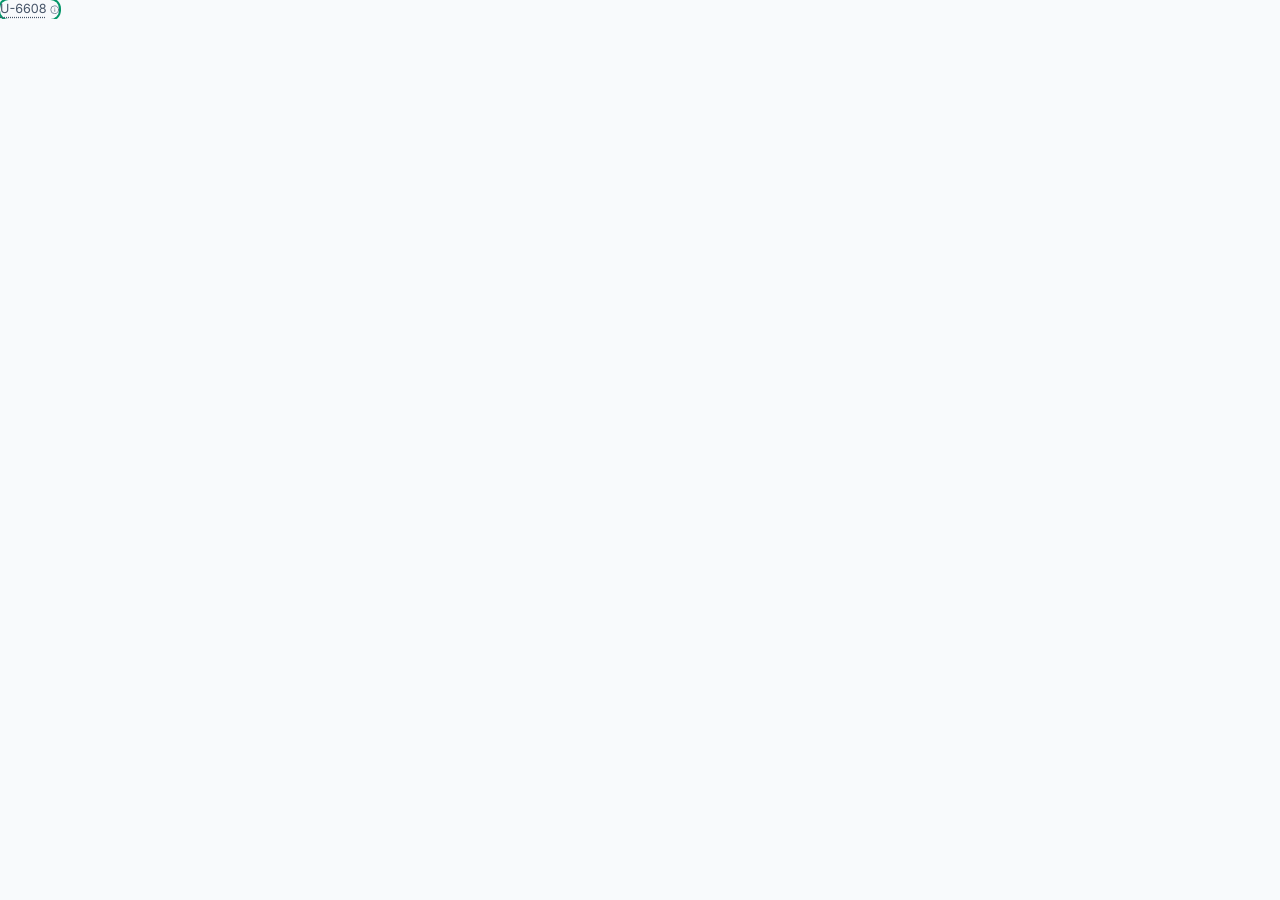
read-only loan overview information › surfaces access/read errors without displaying cached data from another case
Click the button: (30, 10) [0,0,59,19]
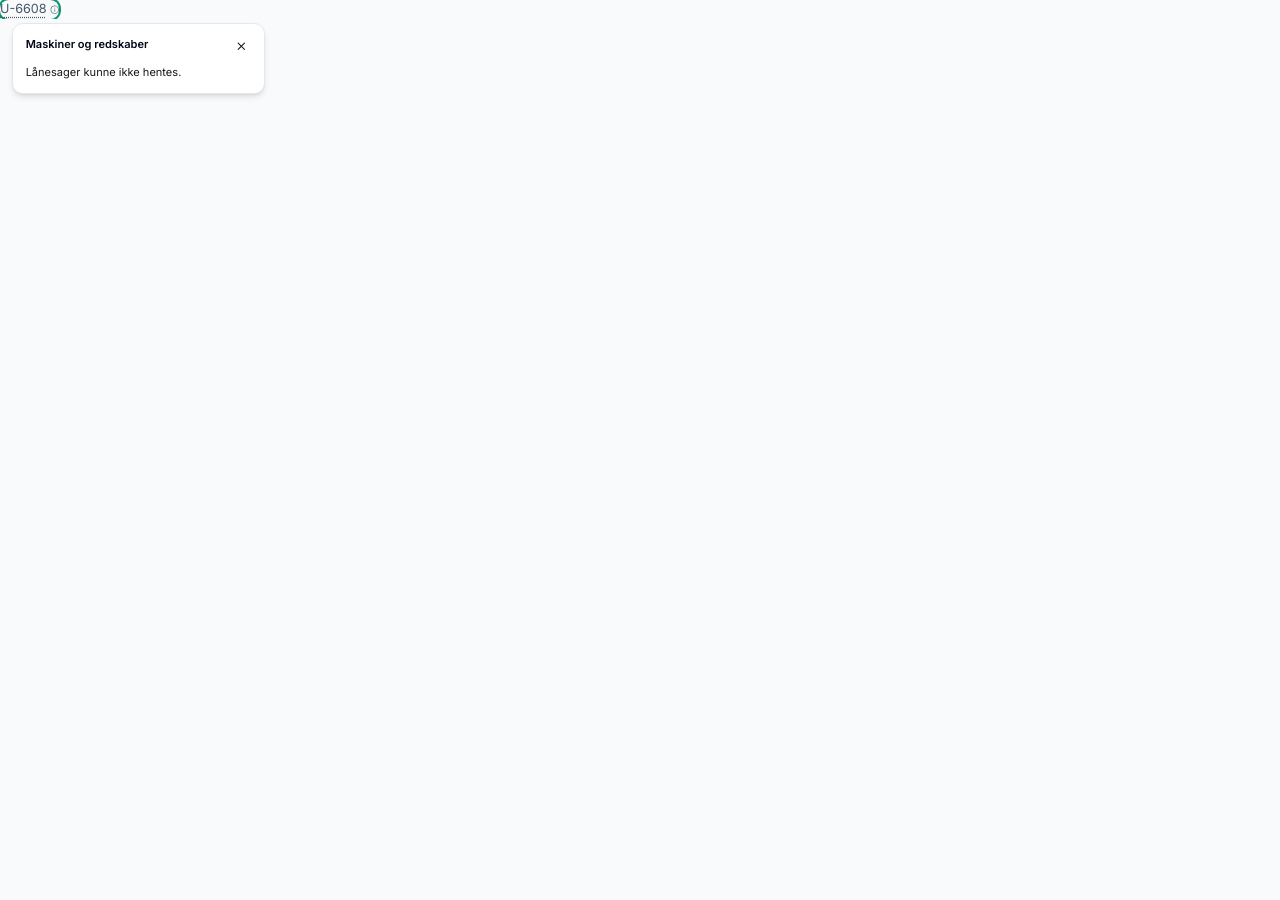
Check: the message reads "Lånesager kunne ikke hentes.", box [26,65,181,79]
